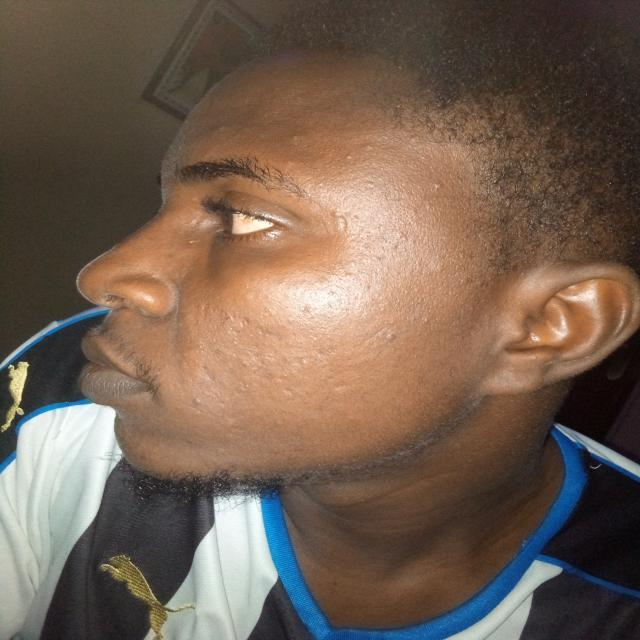Acne: (286, 134, 310, 152), (382, 327, 405, 345), (415, 315, 440, 329), (336, 153, 354, 166), (430, 180, 447, 193), (322, 289, 337, 300), (192, 395, 206, 406), (363, 144, 378, 154), (215, 124, 228, 134), (258, 132, 270, 142), (342, 270, 354, 278)
Englarged-Pores: (186, 305, 258, 378)
